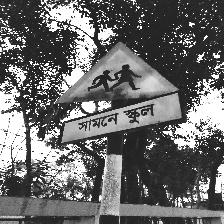School-in-front: (49, 41, 185, 145)
